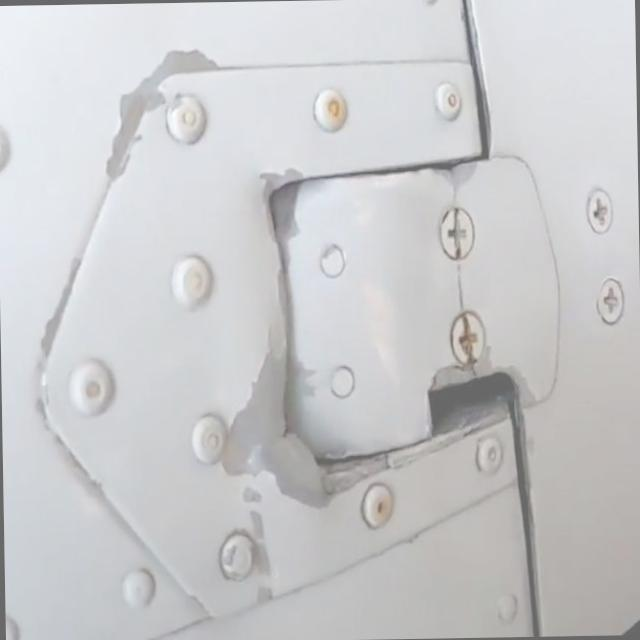crack: (445, 262, 472, 304)
